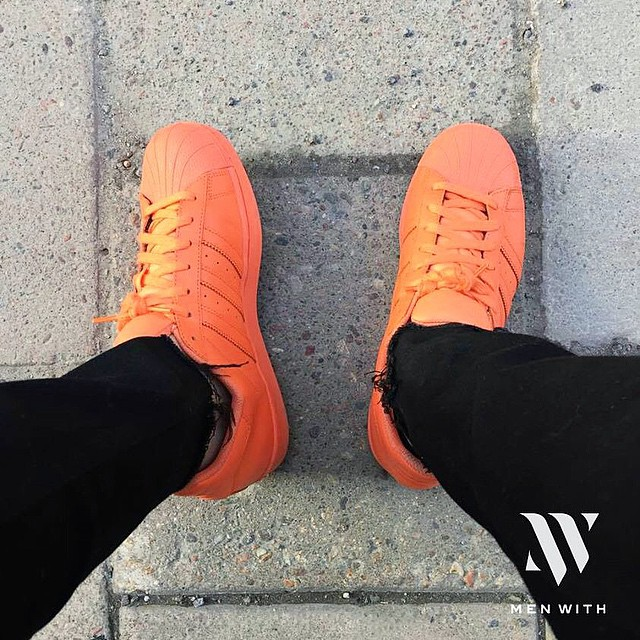sneaker: (72, 111, 316, 516), (349, 102, 548, 517)
